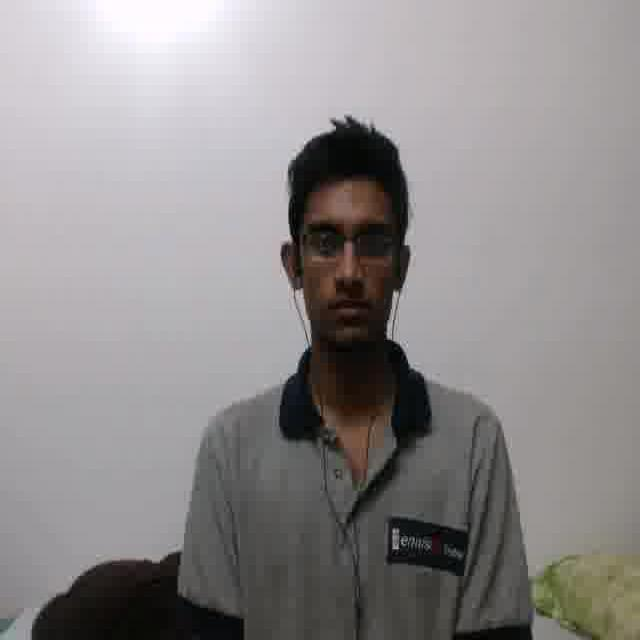Engaged: (300, 181, 397, 348)
